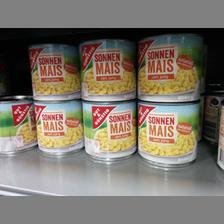Mais: (135, 32, 201, 102), (134, 100, 198, 168), (76, 34, 136, 102), (80, 98, 136, 162), (27, 41, 79, 99), (31, 97, 81, 157), (0, 93, 36, 154)
